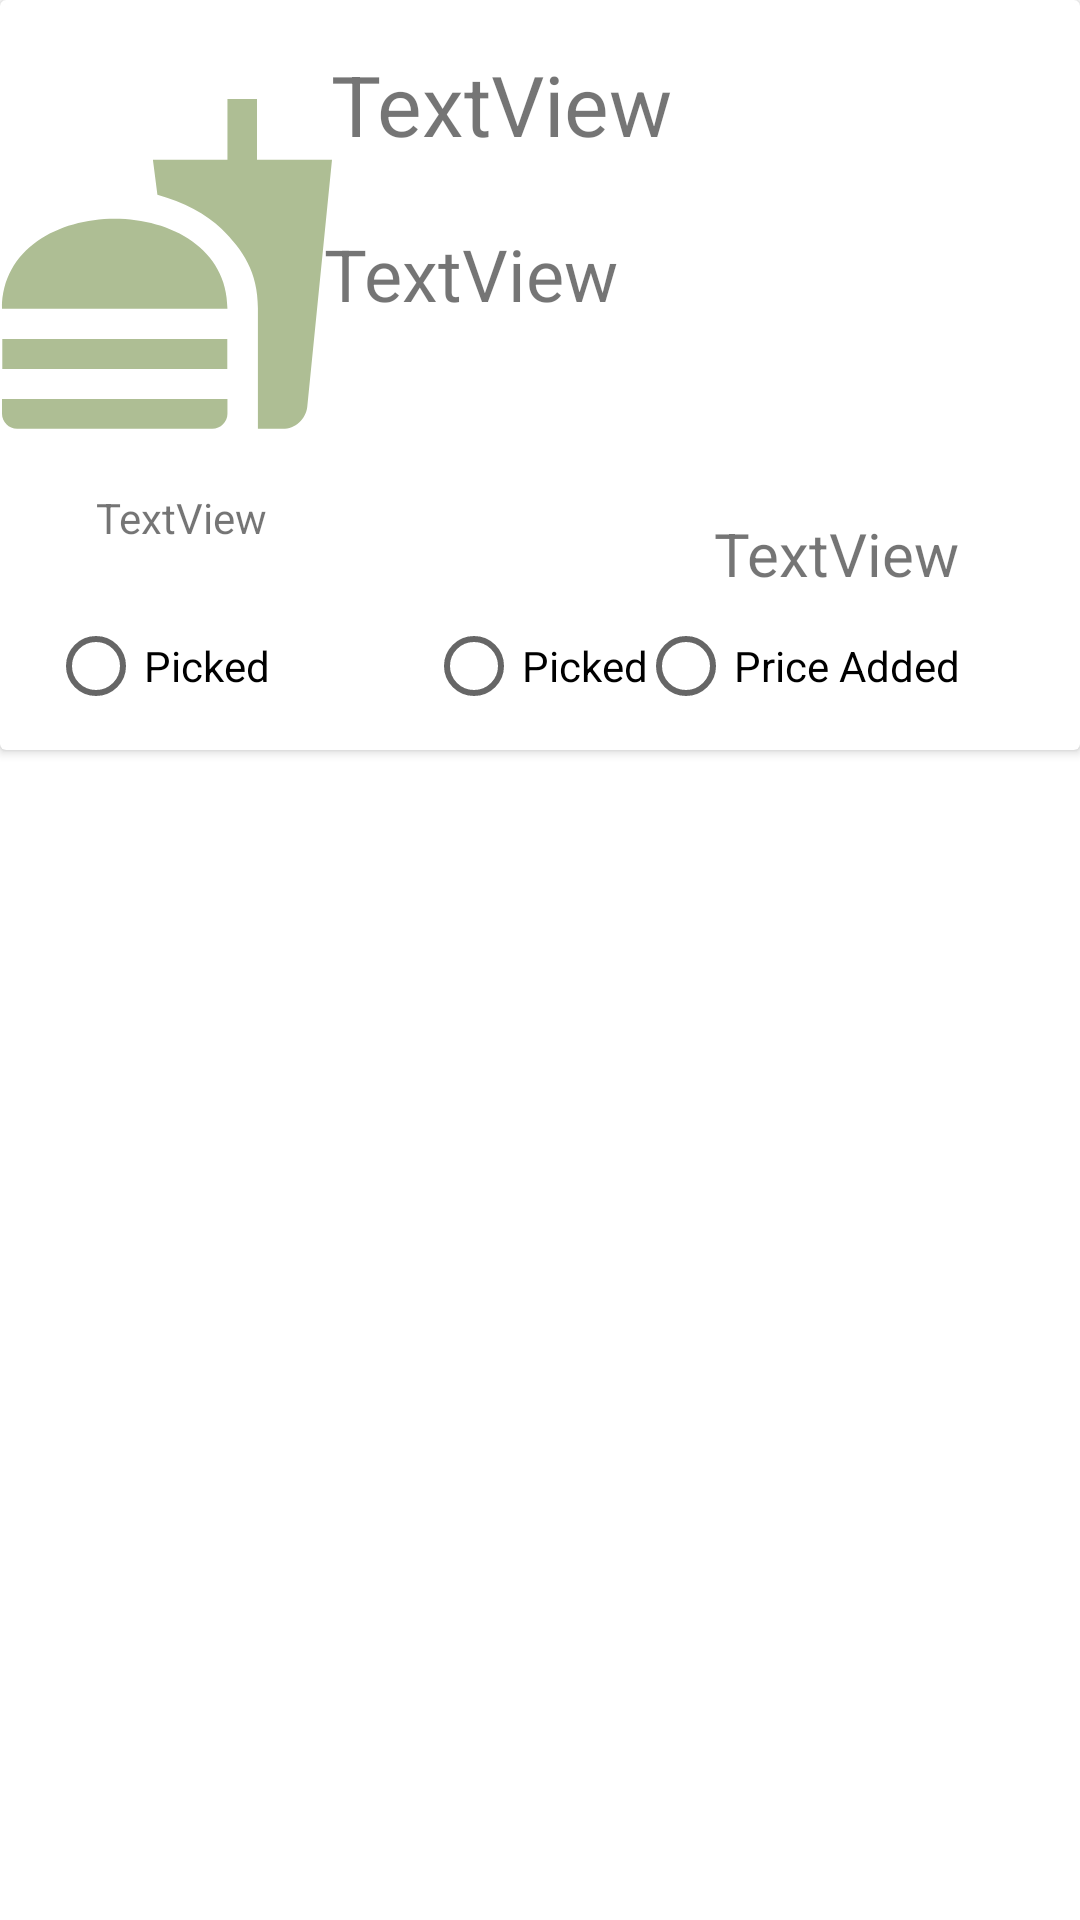

Point at icon controls on the screen. Image size 1080*1920, points as (x=x, y=y).
fastfood: (x=167, y=264)
